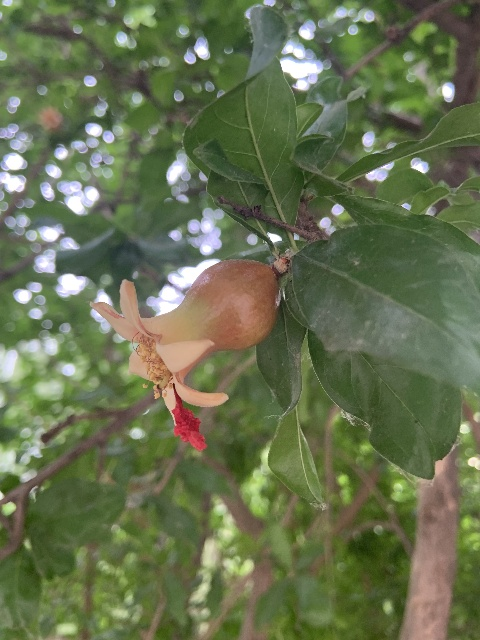early-fruit: (90, 258, 279, 451)
